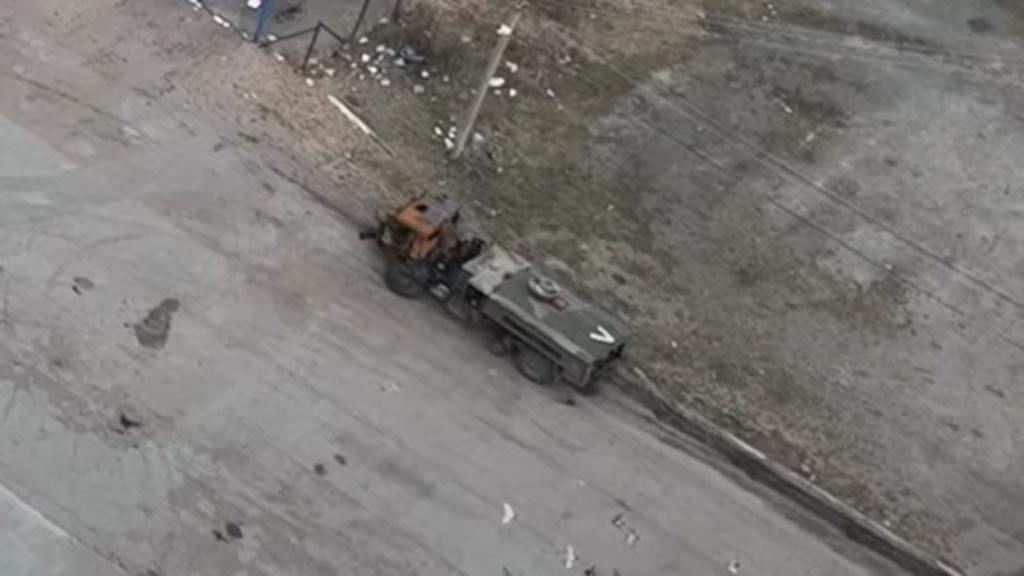TRUCK: (354, 188, 628, 406)
